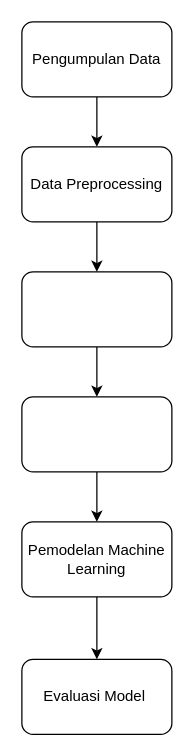
Some shapes in this 194 by 756 pixel diagram are drawn without their labels. The centre of each missing label's shape, as x and y in pixels:
Exploratory Data Analysis (EDA): pixel 96 309
Feature Engineering: pixel 96 434
